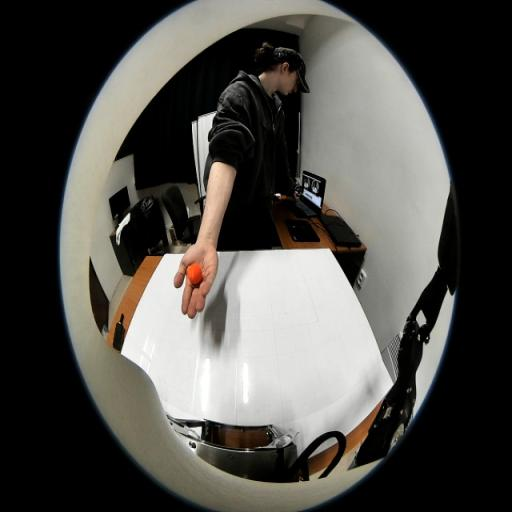Orange: (188, 264, 202, 284)
